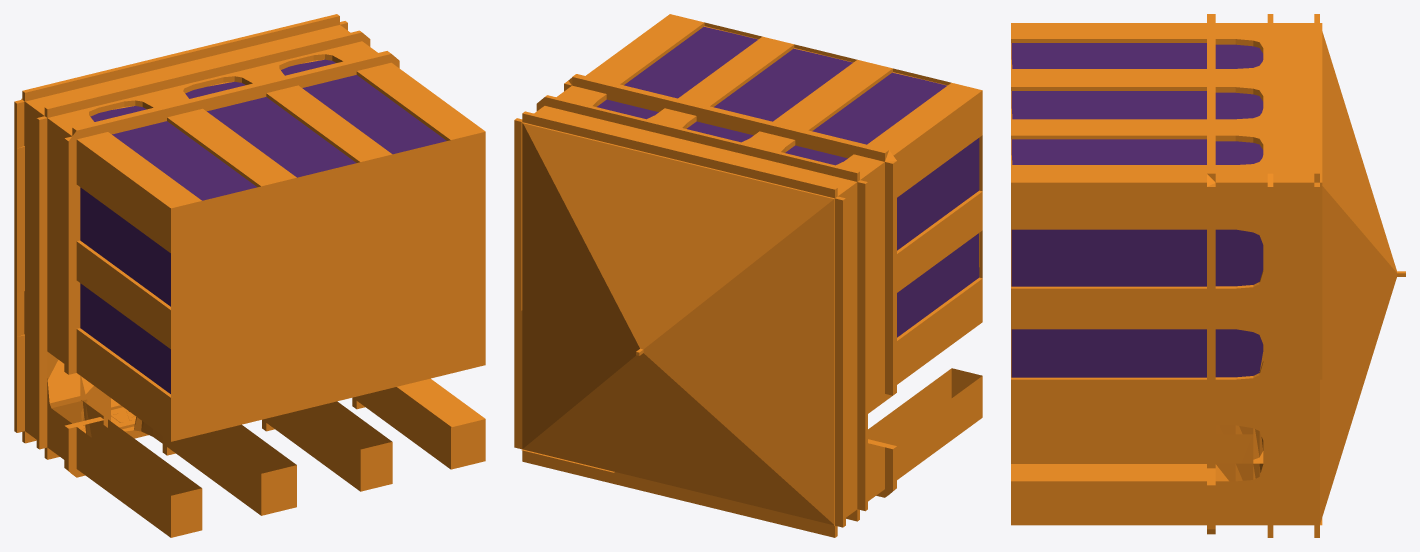
Rendered from Rogatka Warszawska Radom.obj.
The picture shows the model from 3 angles, left to right: view 1: azimuth 30°, elevation 25°; view 2: azimuth 150°, elevation 25°; view 3: azimuth 270°, elevation 25°; orthographic projection. The views are drawn at different scales.
Parts seen in each view (by area): view 1: Rogatka_Warszawska_Radom; view 2: Rogatka_Warszawska_Radom; view 3: Rogatka_Warszawska_Radom.
Boxes of the visible parts, box(x1,y1,x2,y2) form: Rogatka_Warszawska_Radom: box(14, 14, 485, 537); Rogatka_Warszawska_Radom: box(514, 14, 982, 537); Rogatka_Warszawska_Radom: box(1011, 14, 1405, 537).
Bounding box in the file's own units: 38.59 × 39.06 × 38.37.
